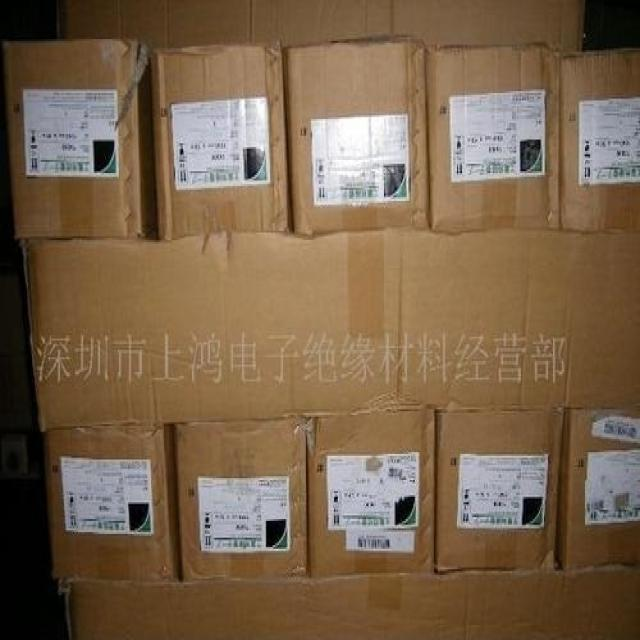box: (19, 230, 638, 434), (60, 566, 638, 638), (4, 41, 158, 238), (282, 35, 430, 234), (151, 40, 289, 241), (428, 42, 562, 230), (42, 427, 181, 587), (435, 411, 563, 573), (305, 417, 435, 575), (174, 421, 306, 575), (561, 50, 639, 229), (557, 407, 639, 571), (392, 3, 585, 50), (56, 1, 251, 46), (250, 1, 392, 46), (2, 430, 42, 482)
